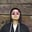face: (10, 6, 22, 23)
